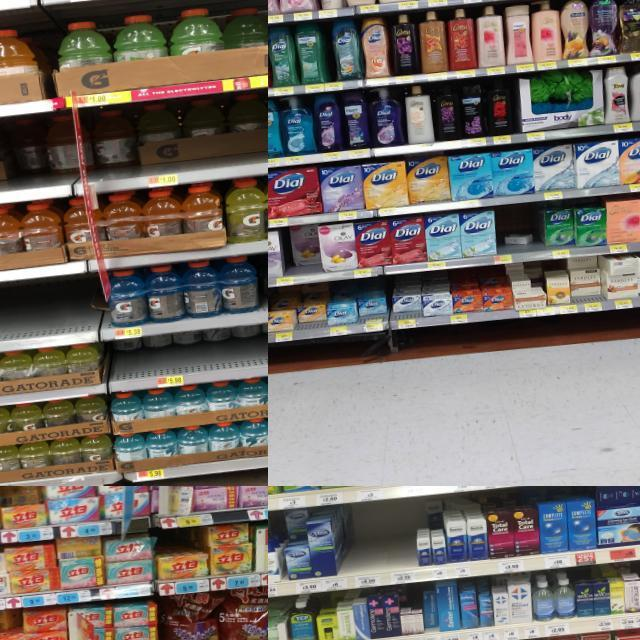Imprecise: (0, 99, 264, 183), (108, 324, 266, 377), (282, 506, 312, 582), (221, 2, 267, 49), (0, 483, 45, 530), (506, 264, 546, 308), (288, 224, 322, 274), (570, 257, 606, 303), (424, 498, 446, 566), (295, 304, 328, 330), (420, 592, 438, 636), (356, 299, 388, 323), (392, 297, 422, 319), (502, 230, 534, 247)
